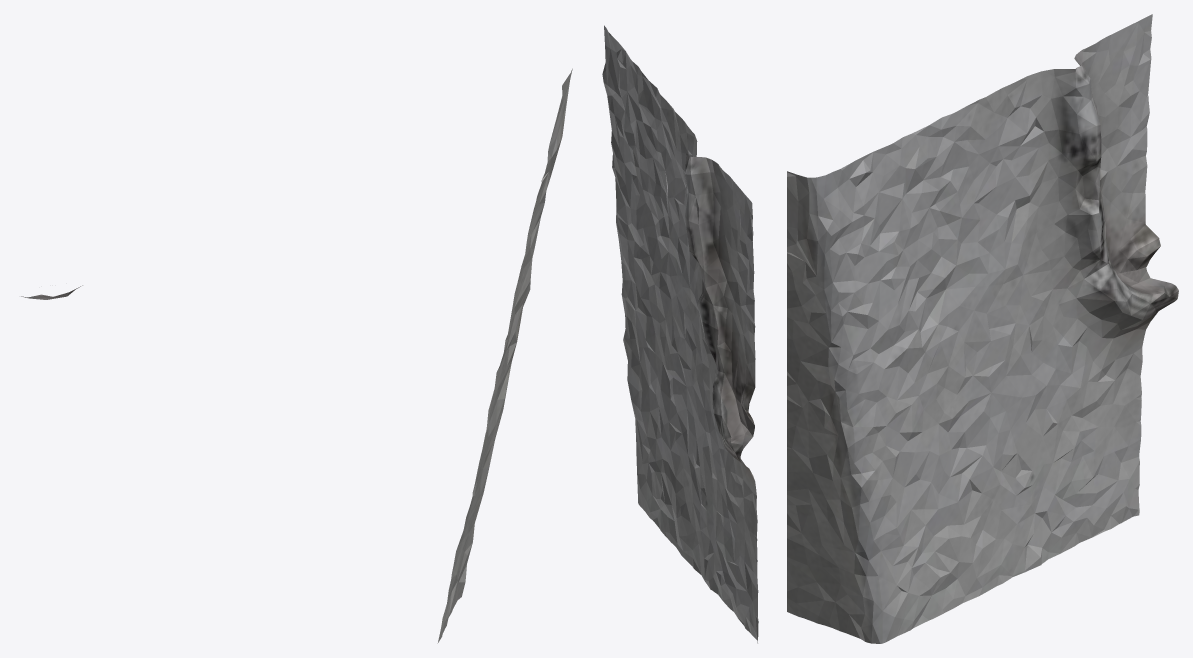
The picture shows the model from 3 angles, left to right: view 1: azimuth 30°, elevation 25°; view 2: azimuth 150°, elevation 25°; view 3: azimuth 270°, elevation 25°; orthographic projection. The views are drawn at different scales.
Bounding box in the file's own units: 0.5869 × 0.8373 × 0.5935.
3 materials, 3 textured.
